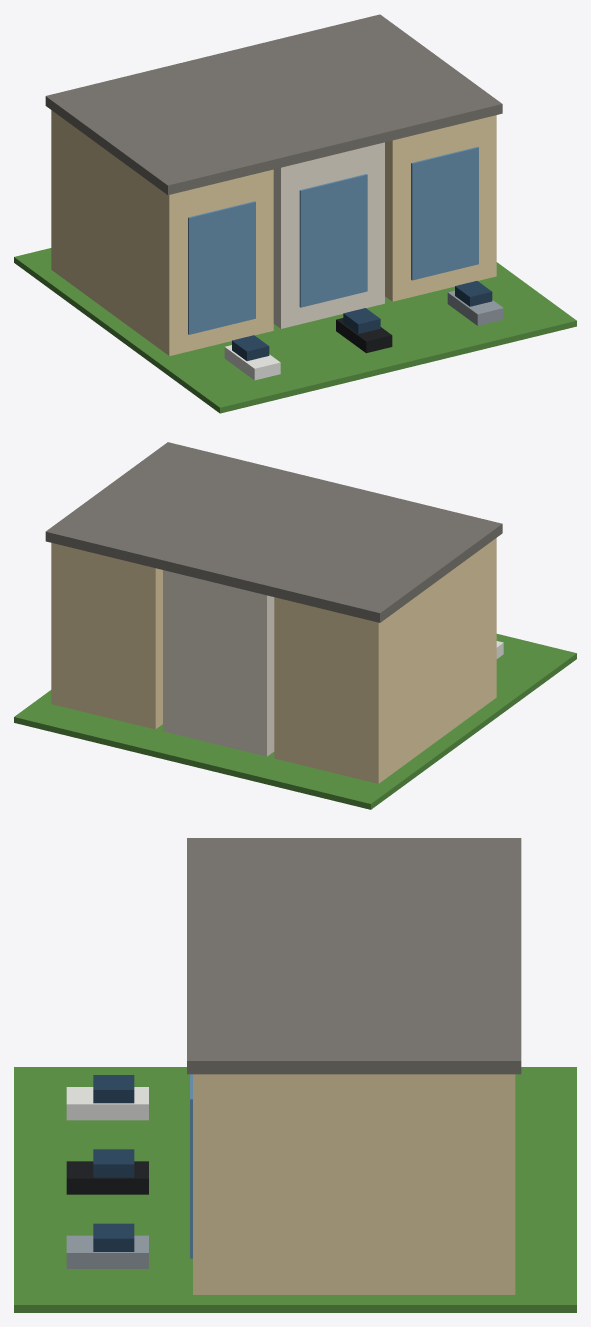
Rendered from zone_R_d2_e4.glb.
The picture shows the model from 3 angles, top to bottom: view 1: azimuth 30°, elevation 25°; view 2: azimuth 150°, elevation 25°; view 3: azimuth 270°, elevation 25°; orthographic projection. The views are drawn at different scales.
Parts seen in each view (by area): view 1: zone_R_d2_e4; view 2: zone_R_d2_e4; view 3: zone_R_d2_e4.
Part boxes in pixels (x1,y1,x2,y2): zone_R_d2_e4: (14, 14, 576, 413); zone_R_d2_e4: (14, 442, 576, 809); zone_R_d2_e4: (14, 838, 576, 1312).
Size of the model in its own units: 0.96 by 0.46 by 0.96.
